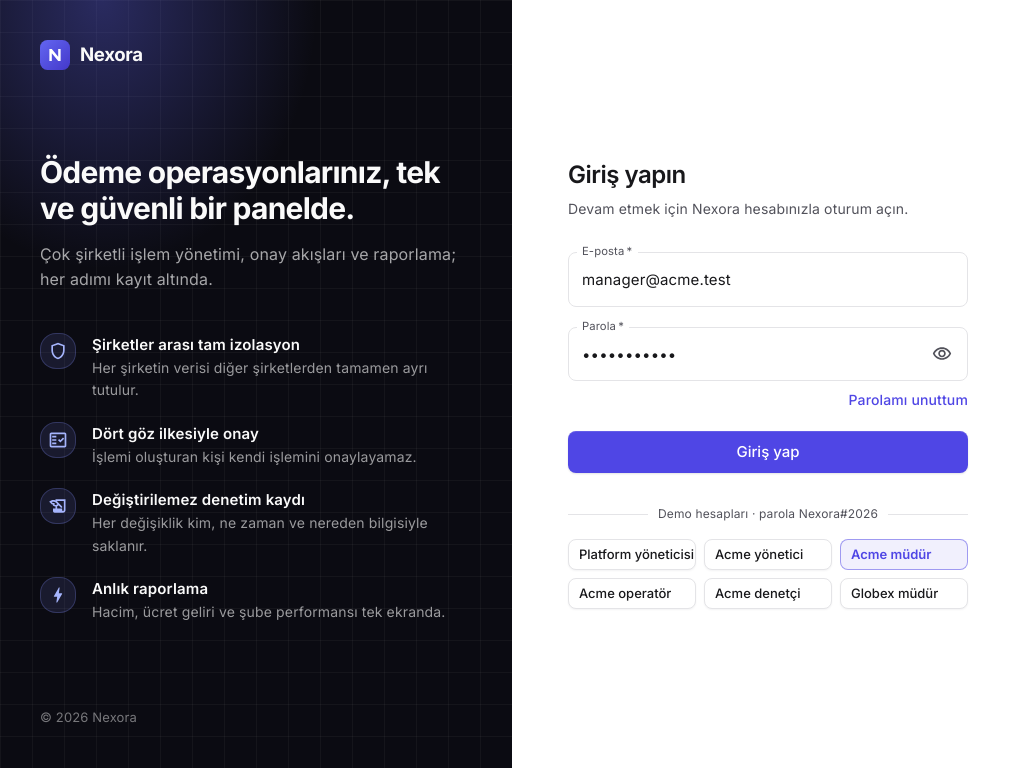
it: forgot password › opens from the login form
The image size is (1024, 768).
Step 1. Click the link "Parolamı unuttum" → (908, 400), box [848,391,968,408]
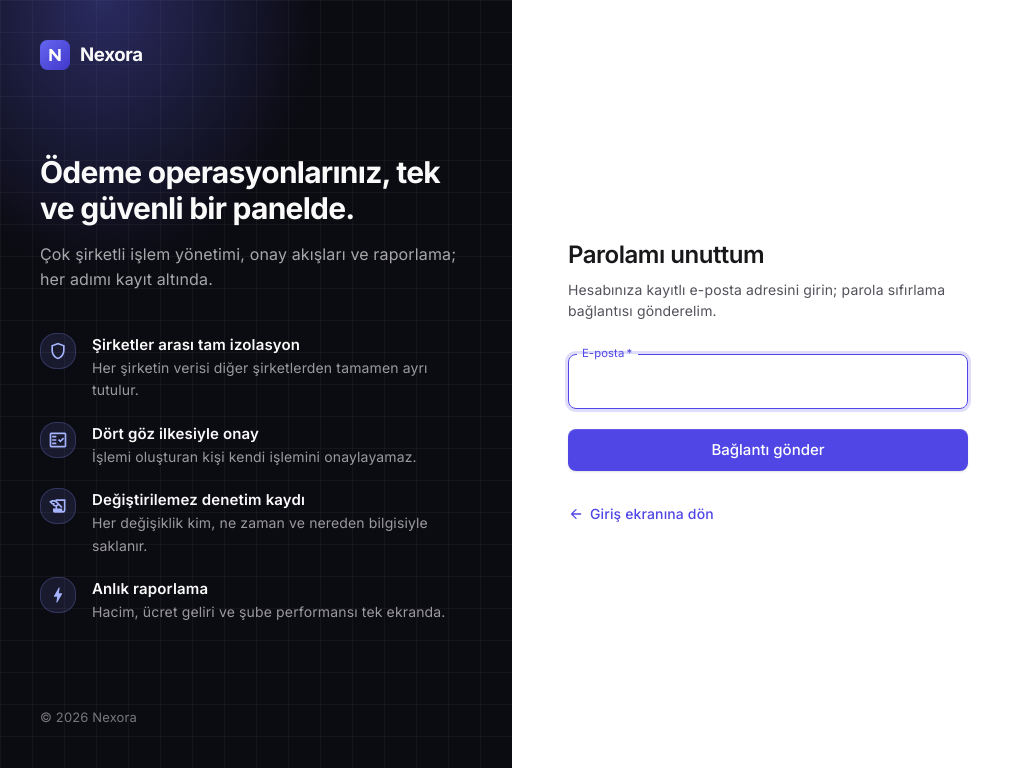
Check: the heading "Parolamı unuttum" is shown, box [568,240,764,269]
